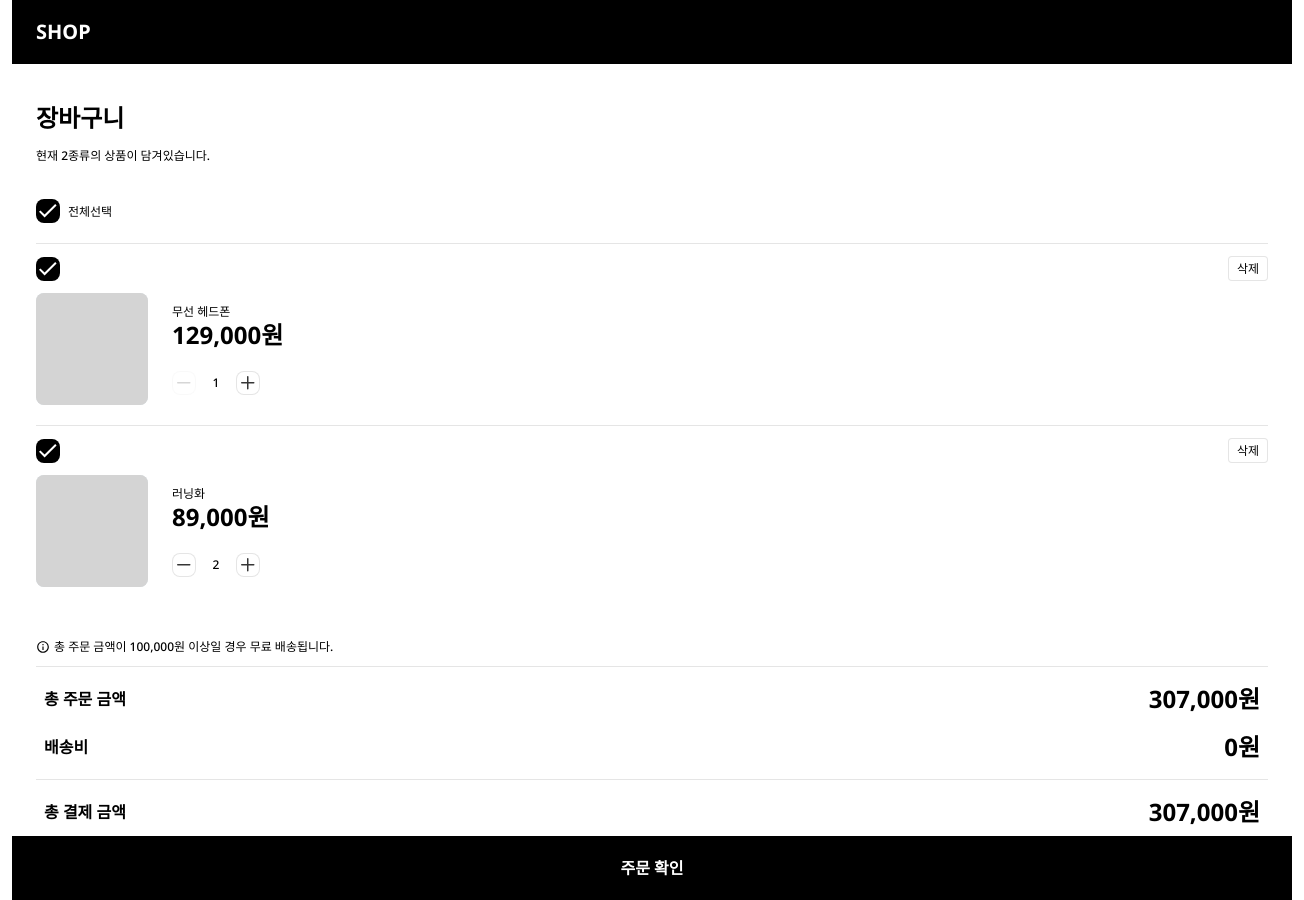
Scenario: 가격 동기화 › 수량 변경(-) 시 주문 금액과 총 결제 금액이 갱신된다
The image size is (1304, 900).
Click the 5th button. click: (184, 564)
box: left=172, top=552, right=196, bottom=576
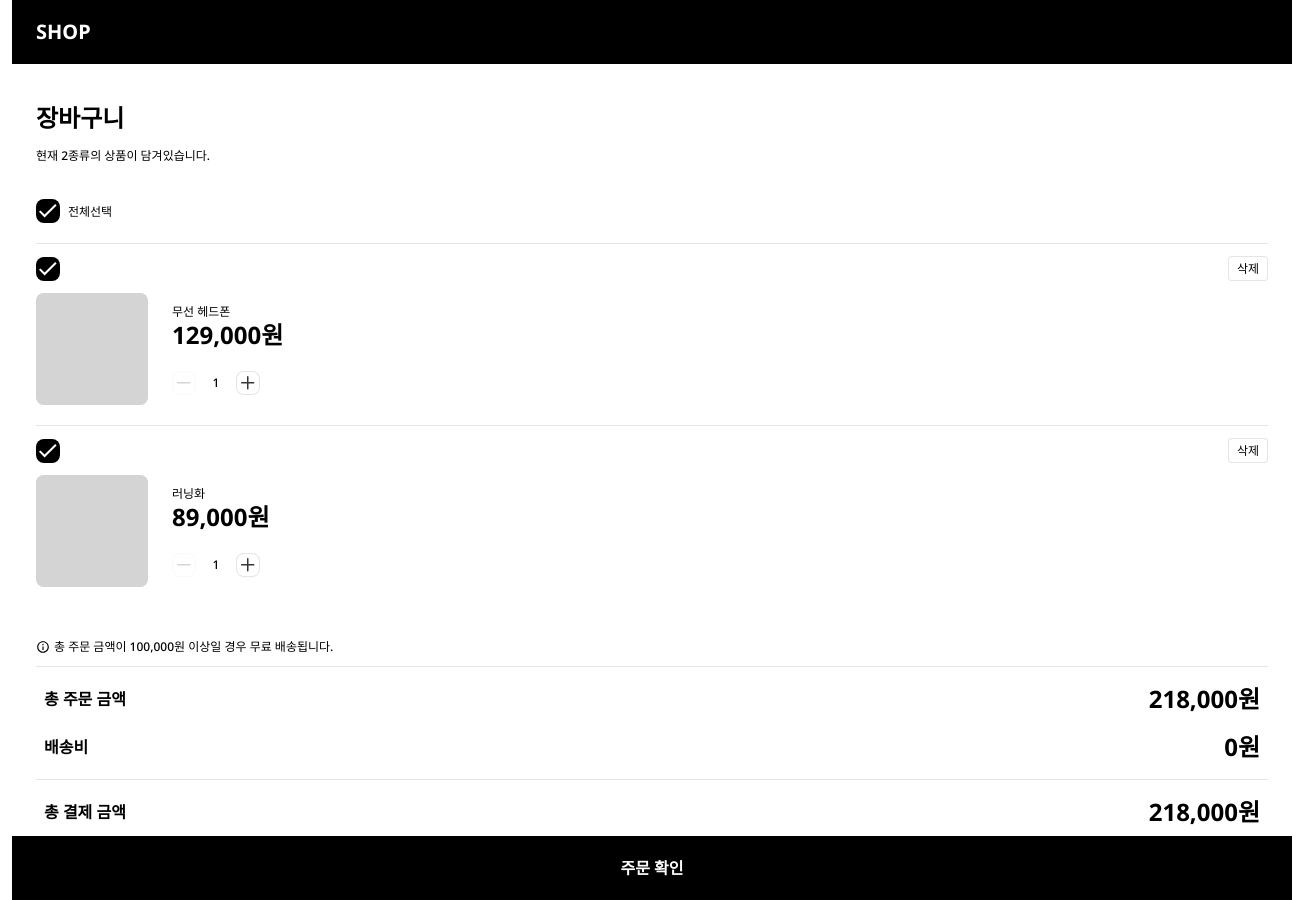
Expected: the text "1" below "89,000" is shown, left=213, top=556, right=220, bottom=572
Result: the 1st text "218,000원" is shown at left=1149, top=687, right=1260, bottom=711
